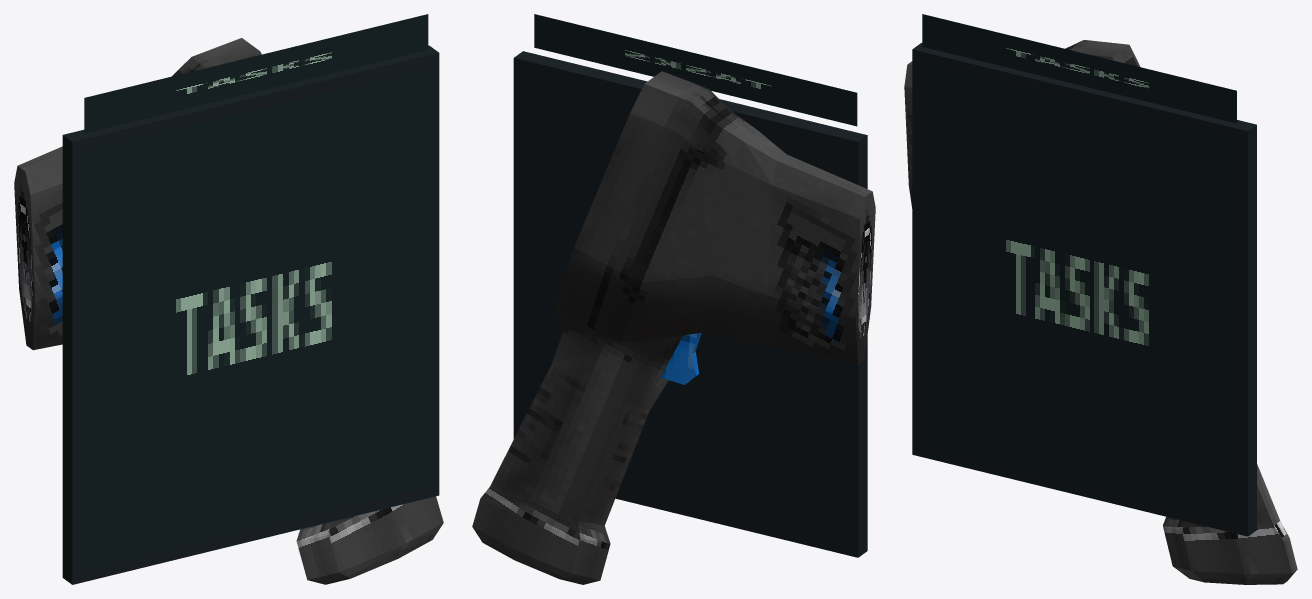
The model's file is blender_clipboards_3.glb.
The picture shows the model from 3 angles, left to right: view 1: azimuth 30°, elevation 25°; view 2: azimuth 150°, elevation 25°; view 3: azimuth 330°, elevation 25°; orthographic projection. The views are drawn at different scales.
Parts seen in each view (by area): view 1: blender_clipboards_3; view 2: blender_clipboards_3; view 3: blender_clipboards_3.
Part boxes in pixels (<box>): blender_clipboards_3: <box>14,14,443,584</box>; blender_clipboards_3: <box>472,14,875,584</box>; blender_clipboards_3: <box>904,14,1297,584</box>.
Size of the model in its own units: 0.22 by 0.286 by 0.035.
1 material, 1 textured.
